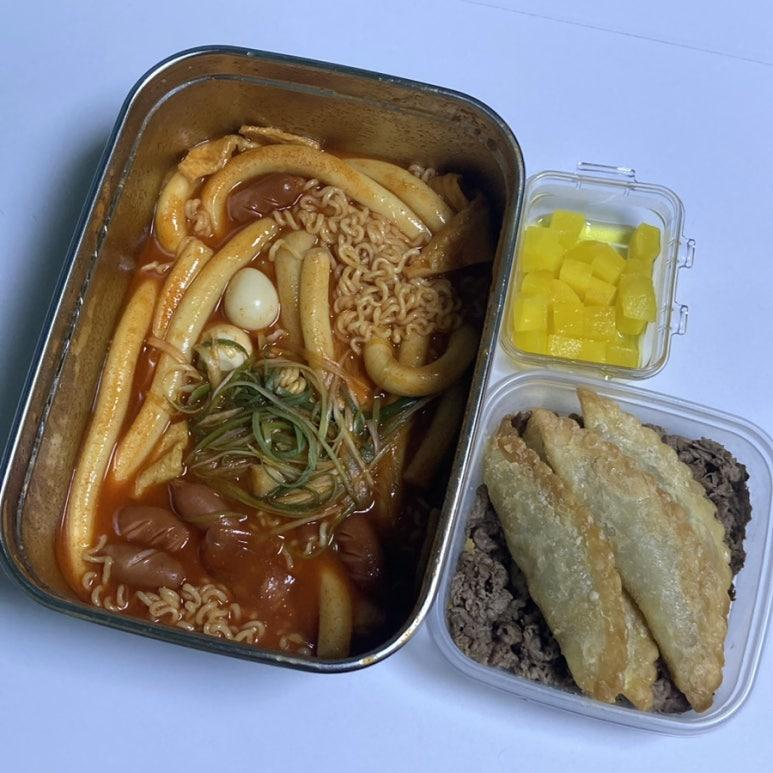Lunch Box: (0, 47, 524, 672), (431, 371, 772, 732), (500, 163, 693, 378)
